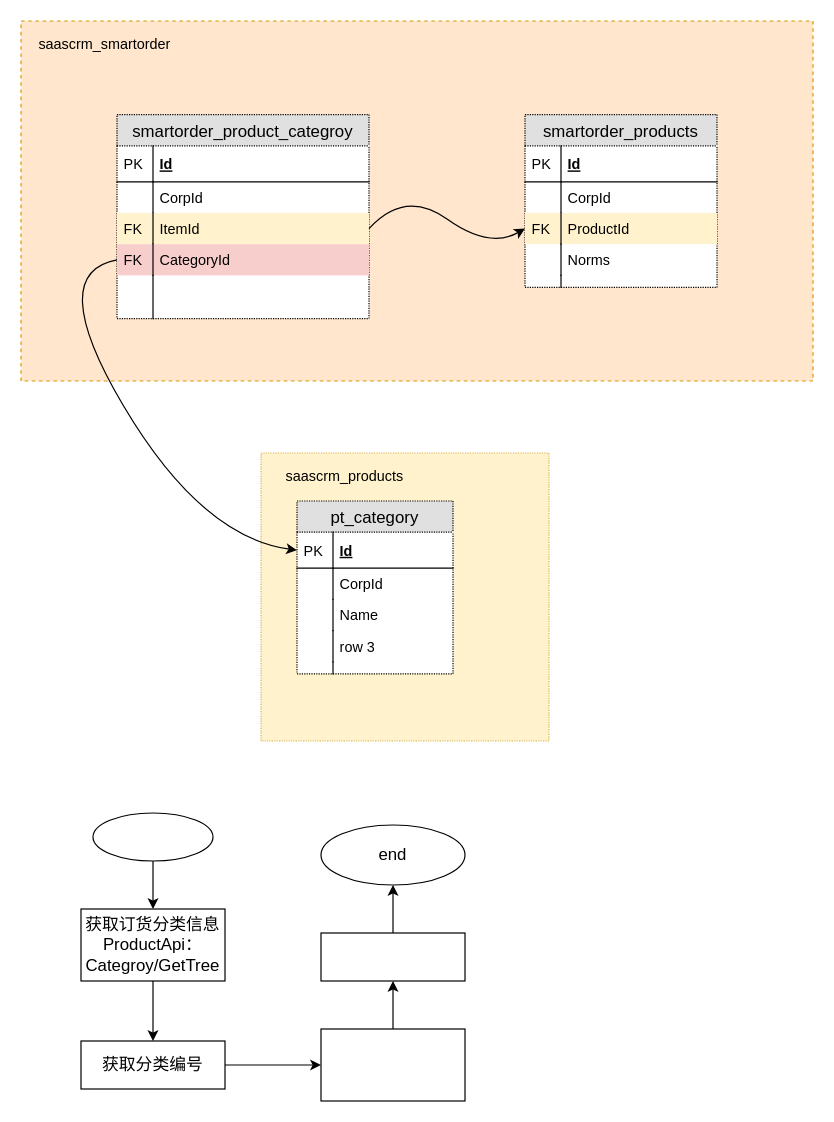
The diagram is 834 pixels wide and 1122 high, and some of its shapes have lost their labels. The shapes that lost their labels are listed below. From the top down, each one's box as (x1, y1, x2, y2) in pixels, then its label:
(92, 812, 213, 861): start
(320, 932, 465, 981): 聚合数据
(320, 1028, 465, 1101): 通过分类编号过滤和统计商品数量
